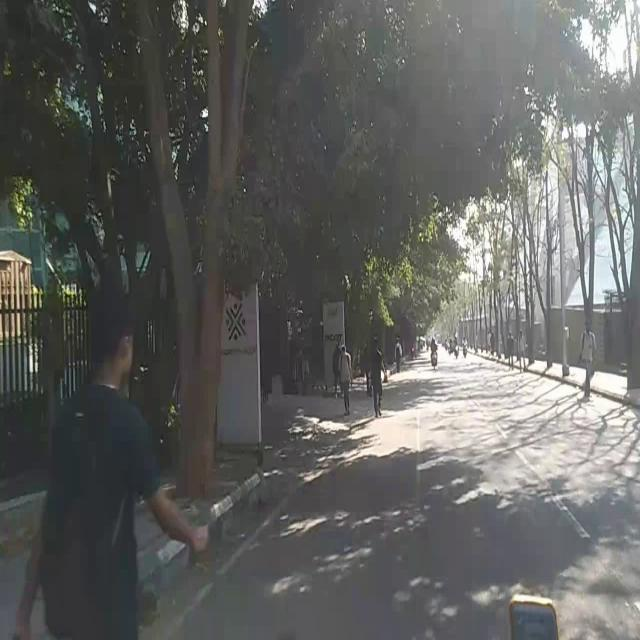person: (31, 295, 210, 640), (366, 334, 391, 418), (579, 312, 598, 410), (335, 341, 356, 422)
road: (212, 471, 640, 640), (303, 362, 639, 469)
sidewalk: (0, 443, 256, 640), (536, 348, 585, 383), (599, 371, 640, 398), (504, 348, 538, 368)
